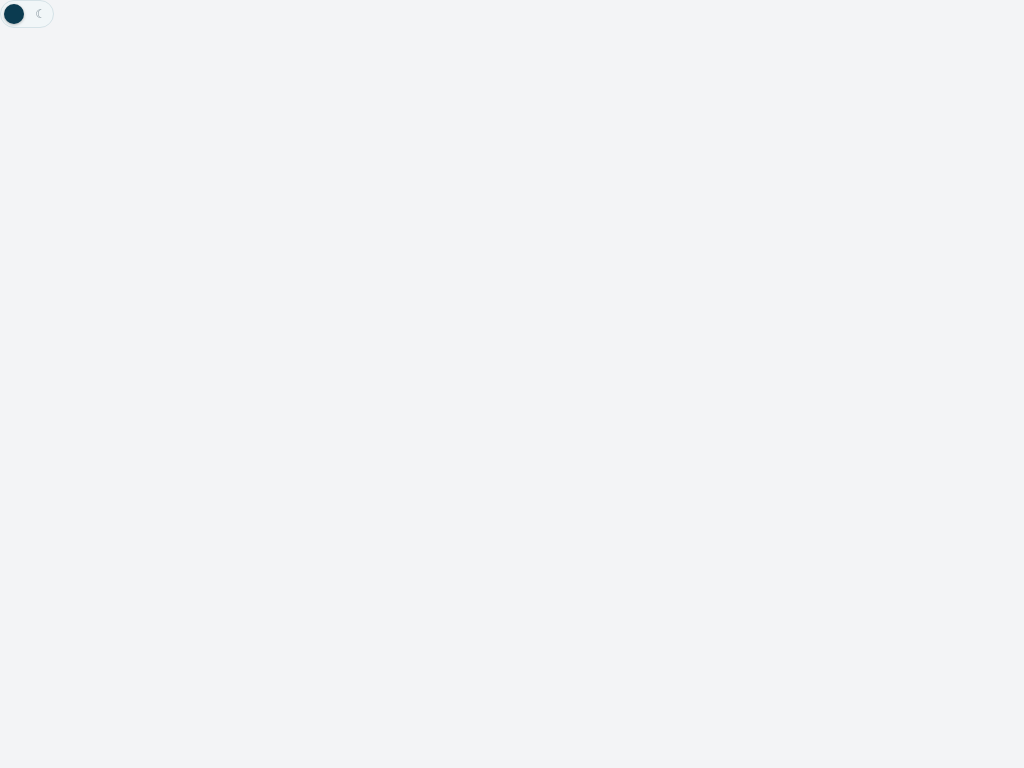
Test: tema › o botão alterna o tema, salva a escolha e atualiza o rótulo
This screenshot has width=1024, height=768.
Later steps or results of the test are not shown.
Step 1. Click the button "☀ ☾" → [27, 14], box [0,0,54,28]
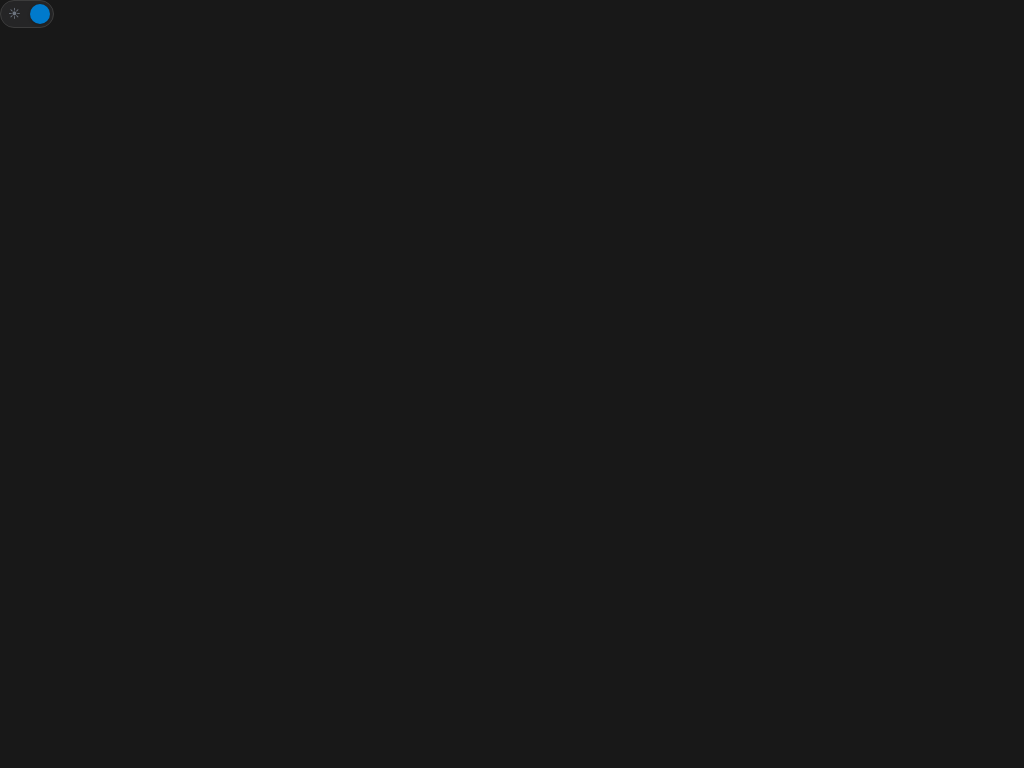
Expected: the button "☀ ☾" has attribute aria-label="Ativar modo claro", [0,0,54,28]
Expected: the button "☀ ☾" is pressed, [0,0,54,28]
